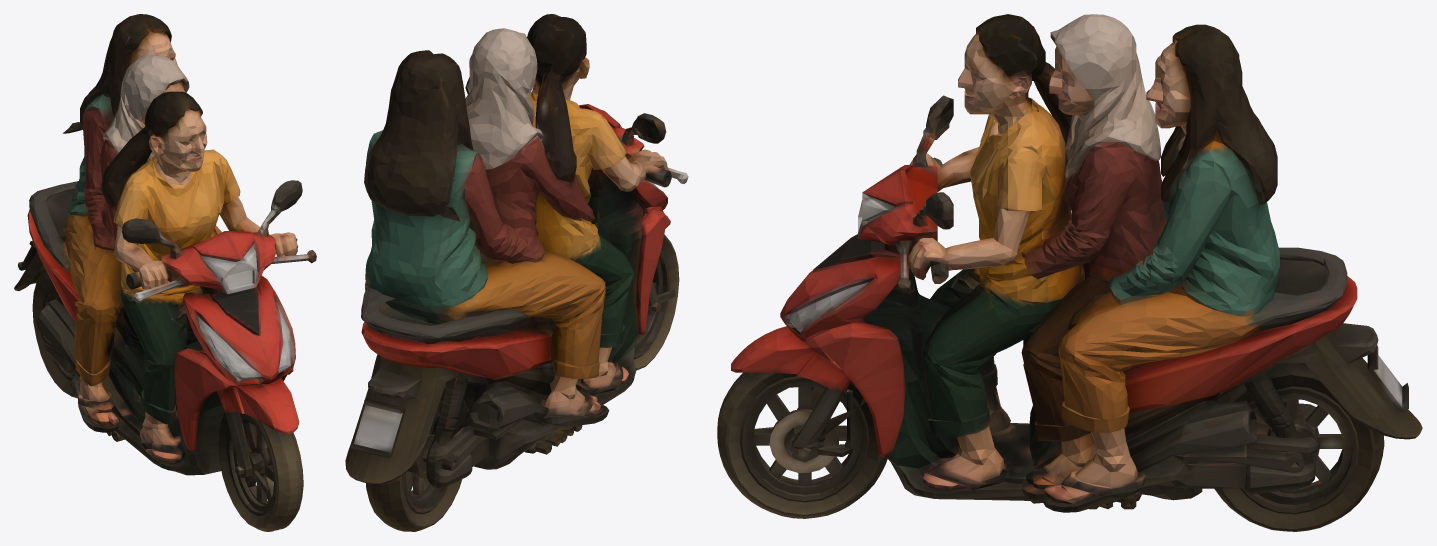
3 views of the same model, side by side, from view 1: azimuth 30°, elevation 25°; view 2: azimuth 150°, elevation 25°; view 3: azimuth 270°, elevation 25° (orthographic). The views are drawn at different scales.
Parts seen in each view (by area): view 1: texture_pbr_v128; view 2: texture_pbr_v128; view 3: texture_pbr_v128.
Boxes of the visible parts, x1,y1,x2,y2 form: texture_pbr_v128: (14, 14, 316, 531); texture_pbr_v128: (345, 14, 688, 531); texture_pbr_v128: (717, 14, 1422, 531).
Size of the model in its own units: 0.404 by 0.8302 by 1.03.
Materials: 1 (1 with a texture image).
